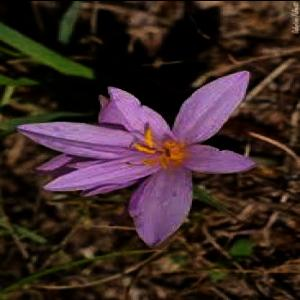Saffron: (14, 70, 254, 246)
